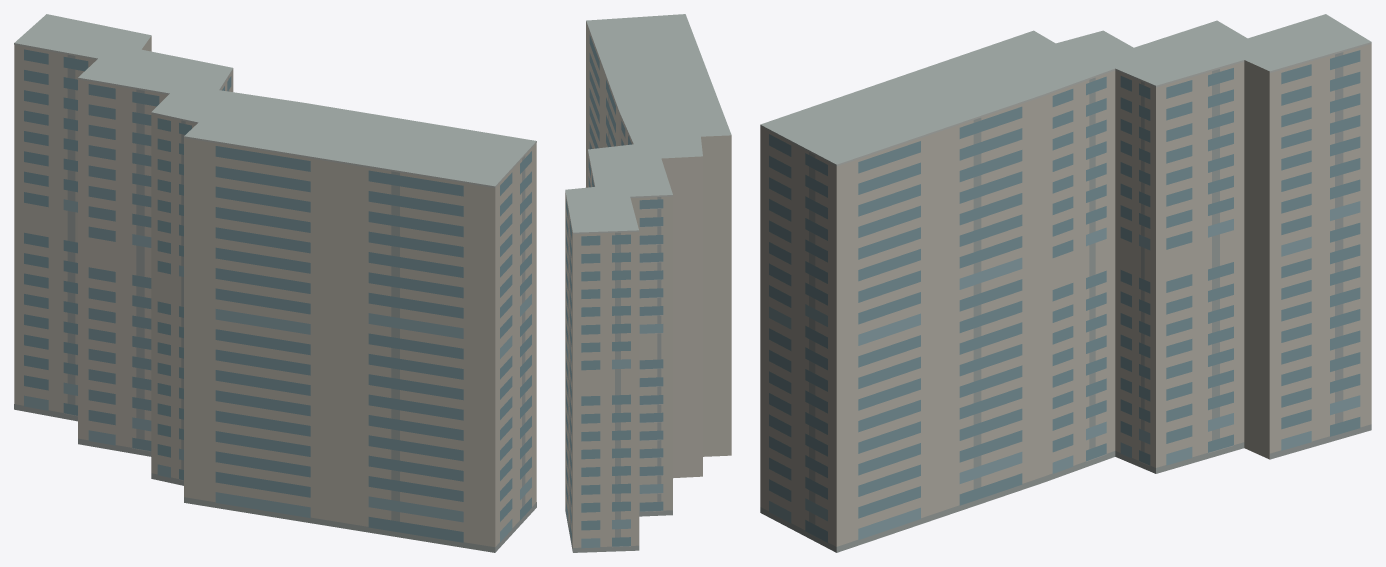
The model's file is residential-989902d8-8f8b-40c8-902c-db2708d7985a.glb.
The picture shows the model from 3 angles, left to right: view 1: azimuth 30°, elevation 25°; view 2: azimuth 150°, elevation 25°; view 3: azimuth 270°, elevation 25°; orthographic projection. The views are drawn at different scales.
Parts seen in each view (by area): view 1: residential-989902d8-8f8b-40c8-902c-db2708d7985a.tmp; view 2: residential-989902d8-8f8b-40c8-902c-db2708d7985a.tmp; view 3: residential-989902d8-8f8b-40c8-902c-db2708d7985a.tmp.
Boxes of the visible parts, box(x1,y1,x2,y2) form: residential-989902d8-8f8b-40c8-902c-db2708d7985a.tmp: box(14, 14, 536, 552); residential-989902d8-8f8b-40c8-902c-db2708d7985a.tmp: box(565, 14, 731, 552); residential-989902d8-8f8b-40c8-902c-db2708d7985a.tmp: box(760, 14, 1371, 552).
Size of the model in its own units: 43.31 by 52 by 74.25.
